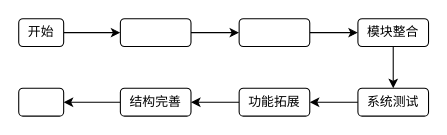
Some shapes in this 447 by 135 pixel diagram are drawn without their labels. The shapes that lost their labels are listed below. From the top down, each one's centre as x and y in pixels, then its label:
(155,32): 需求分析
(274,32): 模块设计
(41,101): 结束
